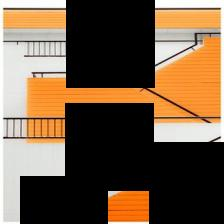orange: (61, 147, 220, 222), (27, 77, 191, 117), (141, 37, 220, 116), (4, 9, 221, 28)
